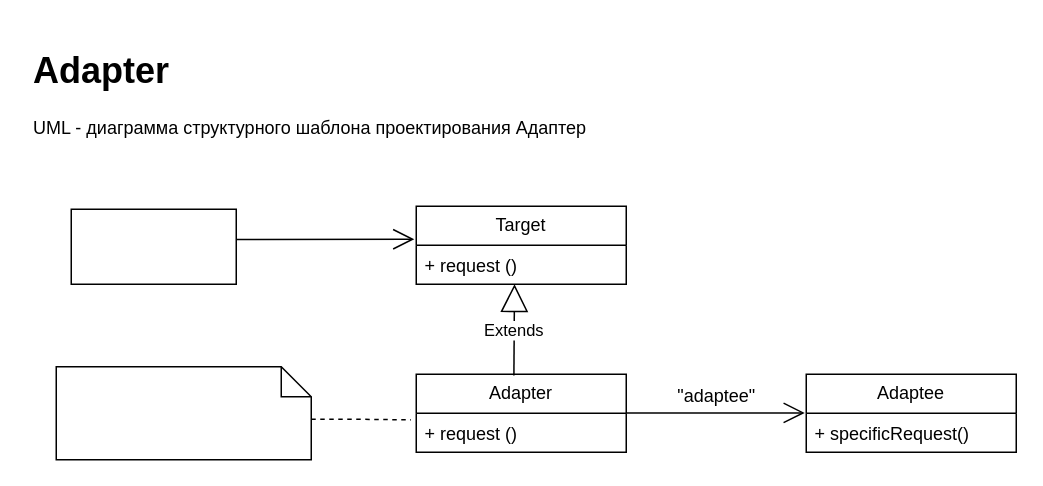
This 1043x486 diagram has some shape labels left out. The shapes that lost their labels are listed below. From the top down, each one's centre as x and y in pixels, then its label:
point 153,246: Client
point 183,412: Adaptee -> specificRequest()
